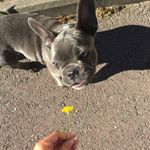puppy: (20, 1, 104, 92)
